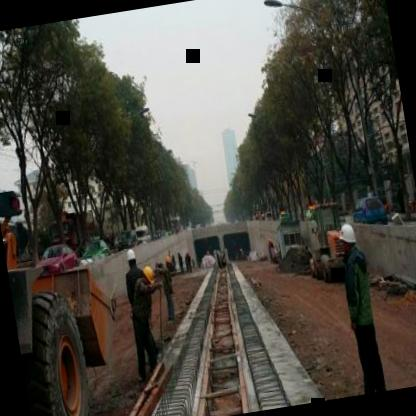helmet: (336, 219, 360, 260), (138, 260, 156, 288), (124, 242, 138, 274)
